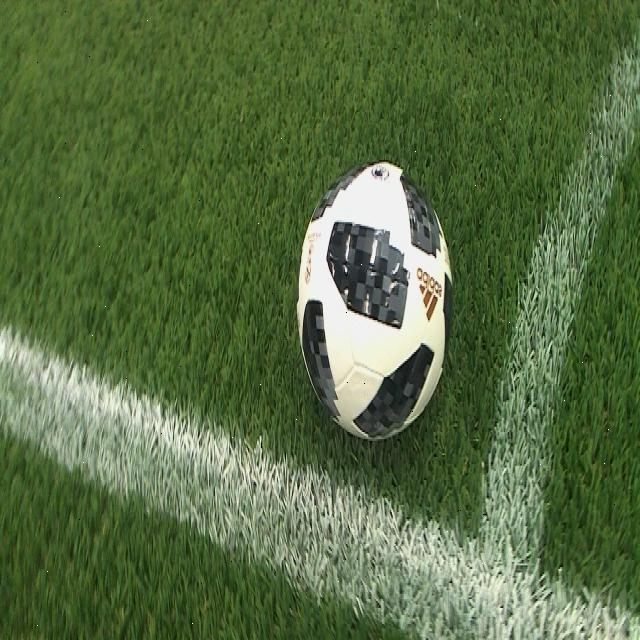ball: (295, 158, 454, 444)
